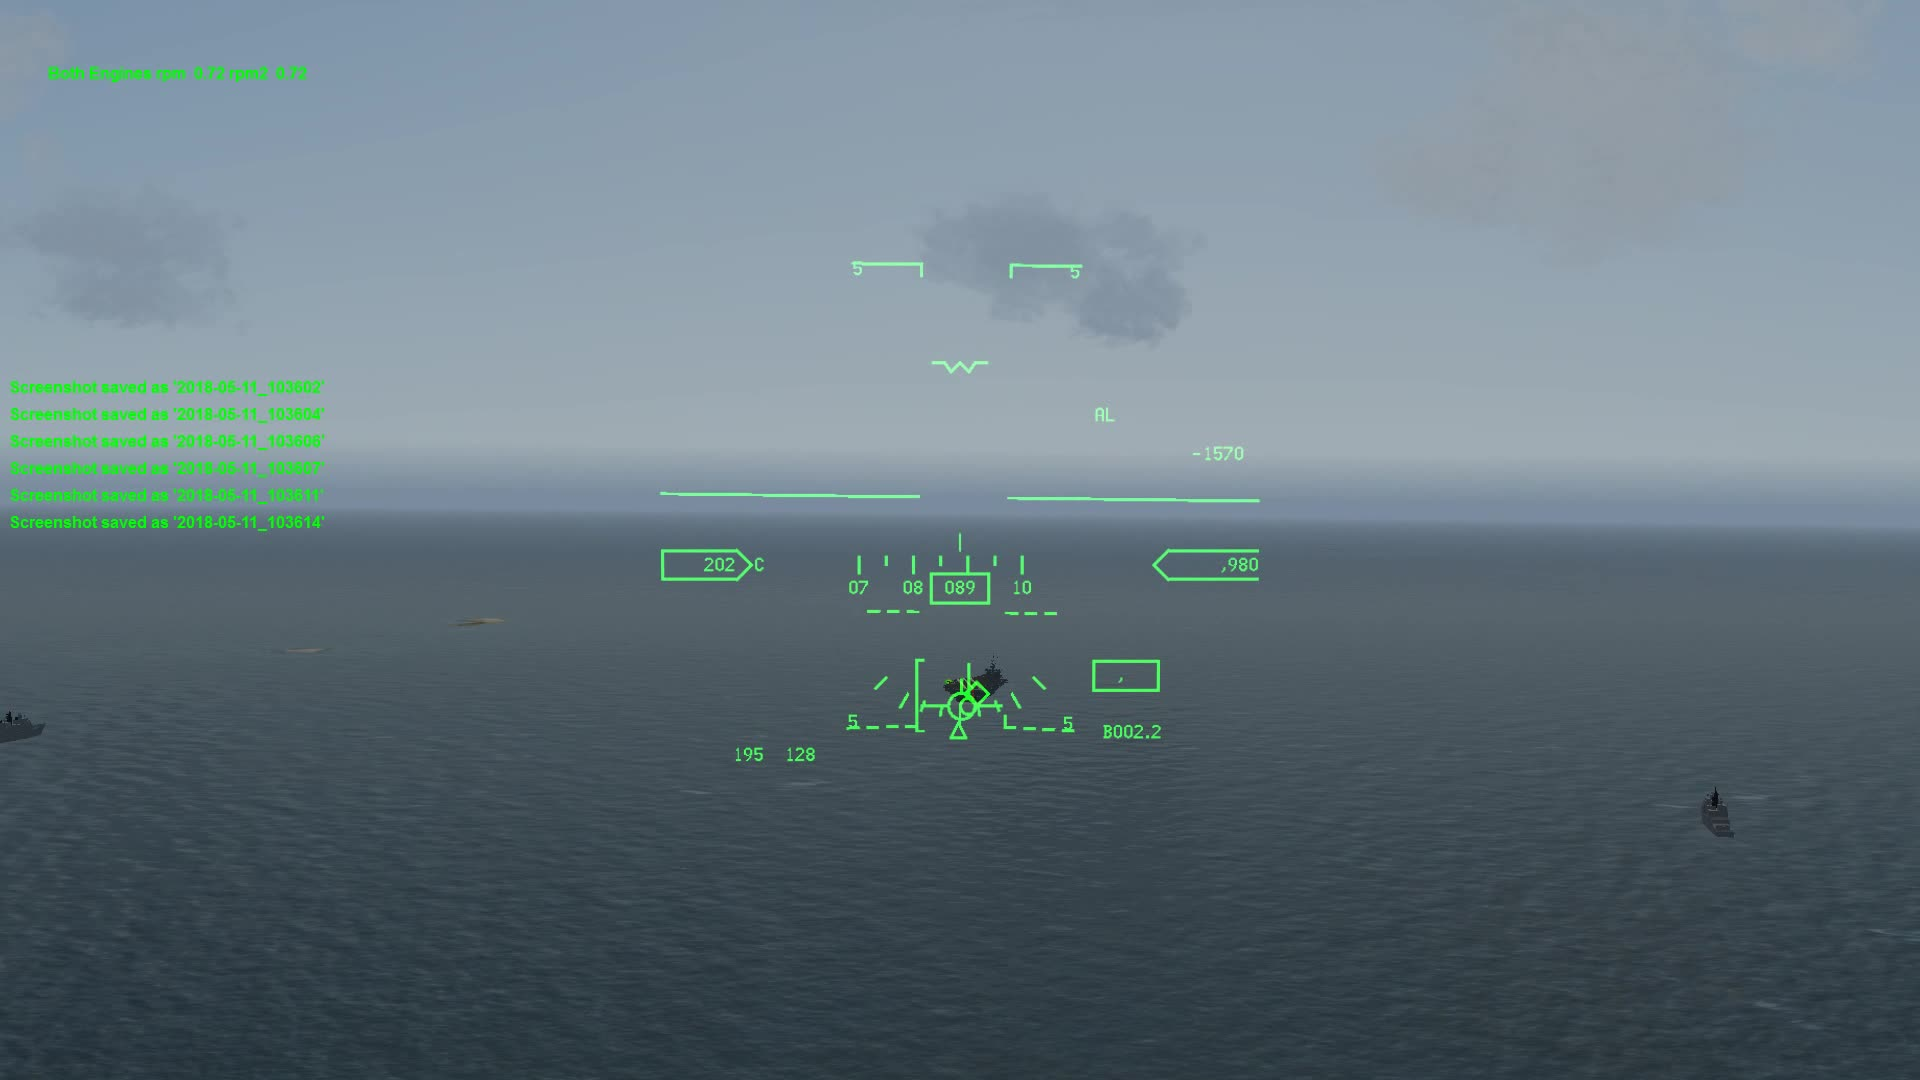speed vector: (930, 655, 1005, 724)
